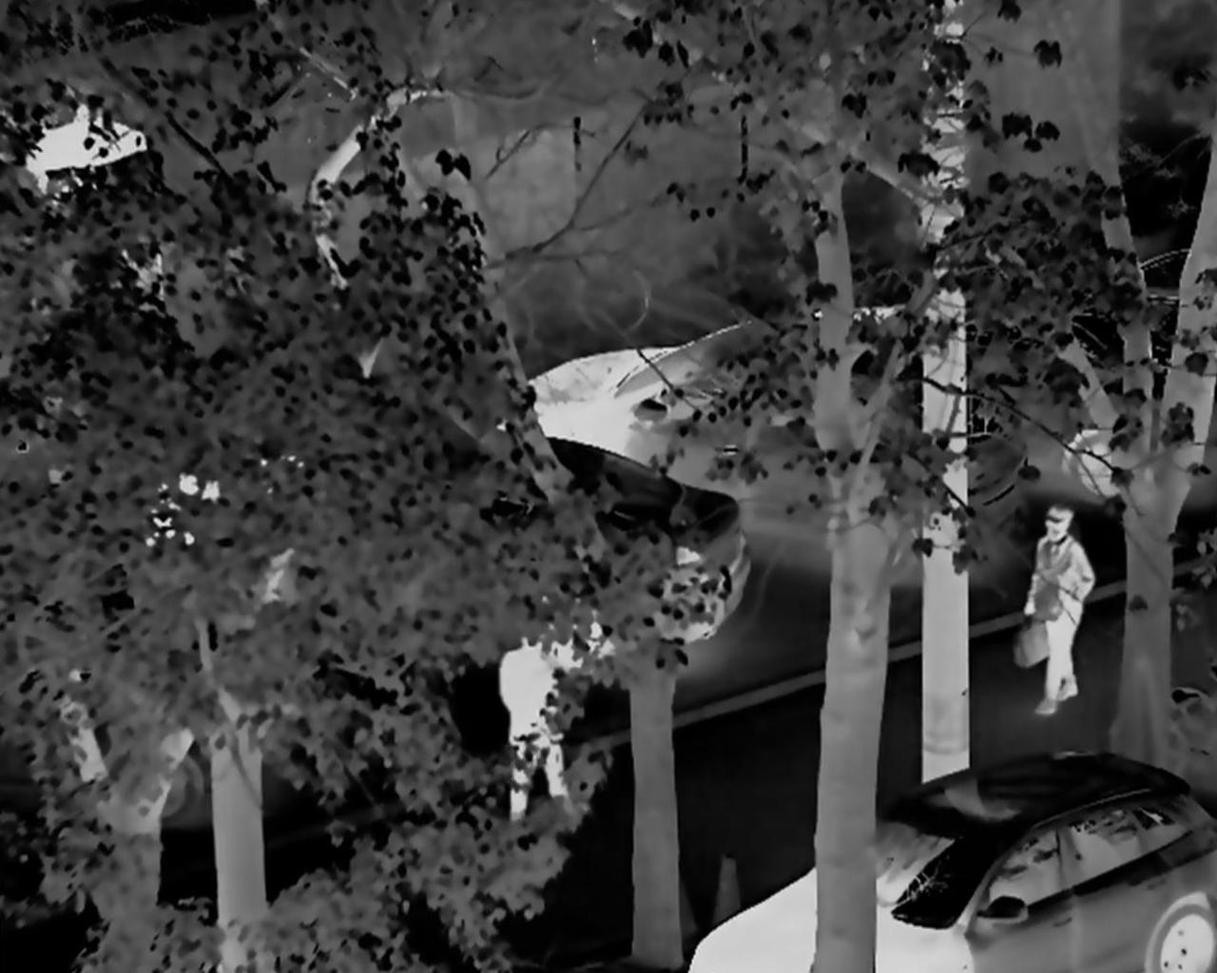person: (476, 618, 575, 824), (1015, 501, 1102, 735)
